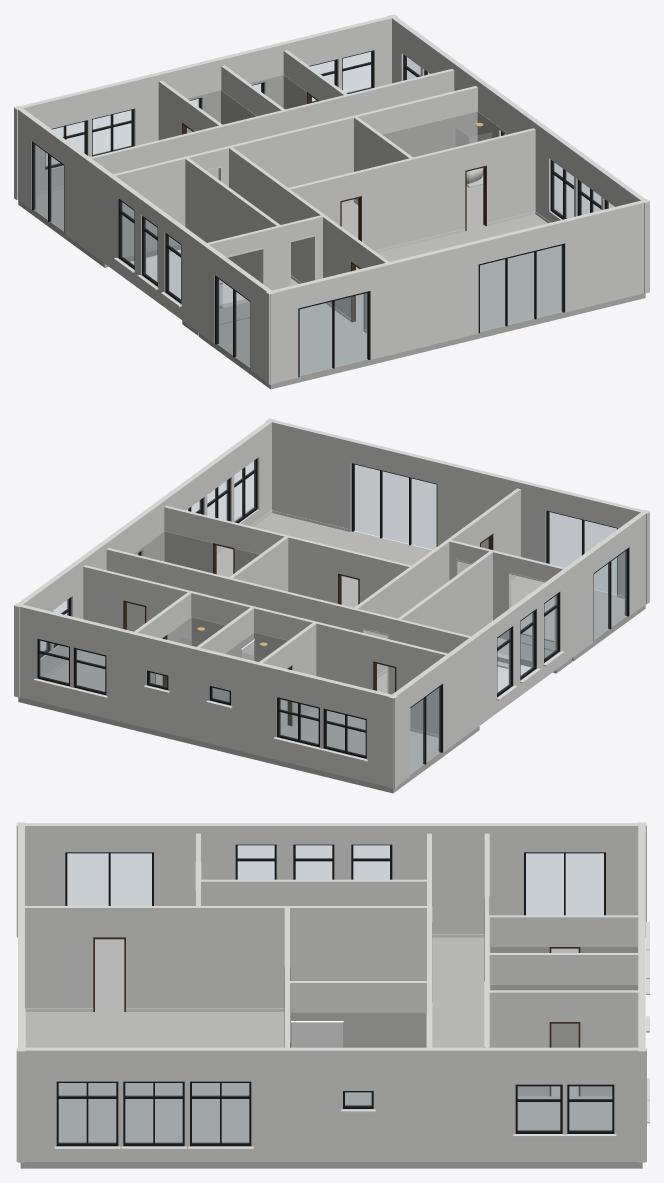
Rendered from int_est_S1_1.glb.
3 views of the same model, one above another, from view 1: azimuth 30°, elevation 25°; view 2: azimuth 150°, elevation 25°; view 3: azimuth 270°, elevation 25° (orthographic). The views are drawn at different scales.
Parts seen in each view (by area): view 1: WALL_0, ROOM, WALL_2, WALL_1, WALL_8, WALL_6, WALL_4, WALL_10, WALL_3, WALL_7, WALL_5, WALL_11 (+3 smaller); view 2: WALL_1, WALL_0, WALL_2, ROOM, WALL_10, WALL_4, WALL_6, WALL_8, WALL_3, WALL_7, WALL_5, WALL_11 (+3 smaller); view 3: WALL_4, WALL_2, ROOM, WALL_3, WALL_13, WALL_7, WALL_11, WALL_12, WALL_9, WALL_1, WALL_0, WALL_10 (+2 smaller).
Boxes of the visible parts, left/top/right/bottom form: WALL_0: left=266, top=199, right=649, bottom=384; ROOM: left=18, top=75, right=645, bottom=389; WALL_2: left=14, top=105, right=275, bottom=384; WALL_1: left=14, top=14, right=397, bottom=200; WALL_8: left=289, top=128, right=535, bottom=250; WALL_6: left=113, top=86, right=477, bottom=257; WALL_4: left=388, top=14, right=649, bottom=293; WALL_10: left=90, top=69, right=454, bottom=179; WALL_3: left=228, top=146, right=388, bottom=330; WALL_7: left=184, top=157, right=281, bottom=282; WALL_5: left=207, top=215, right=322, bottom=290; WALL_11: left=158, top=80, right=223, bottom=140; WALL_1: left=14, top=603, right=397, bottom=788; WALL_0: left=266, top=418, right=649, bottom=604; WALL_2: left=388, top=509, right=649, bottom=788; ROOM: left=18, top=510, right=645, bottom=793; WALL_10: left=83, top=565, right=447, bottom=734; WALL_4: left=14, top=418, right=275, bottom=697; WALL_6: left=106, top=548, right=470, bottom=694; WALL_8: left=164, top=505, right=411, bottom=604; WALL_3: left=353, top=488, right=520, bottom=675; WALL_7: left=397, top=550, right=493, bottom=636; WALL_5: left=449, top=540, right=564, bottom=650; WALL_11: left=259, top=622, right=316, bottom=734; WALL_4: left=16, top=1047, right=646, bottom=1161; WALL_2: left=16, top=823, right=646, bottom=937; ROOM: left=20, top=934, right=642, bottom=1168; WALL_3: left=25, top=906, right=429, bottom=1011; WALL_13: left=487, top=990, right=638, bottom=1096; WALL_7: left=198, top=879, right=429, bottom=905; WALL_11: left=487, top=915, right=638, bottom=952; WALL_12: left=487, top=953, right=638, bottom=984; WALL_9: left=287, top=981, right=429, bottom=1012; WALL_1: left=638, top=822, right=649, bottom=1162; WALL_0: left=18, top=822, right=24, bottom=1162; WALL_10: left=484, top=833, right=489, bottom=1047.
Size of the model in its own units: 16.03 by 3.85 by 18.61.
12 materials, 1 textured.
